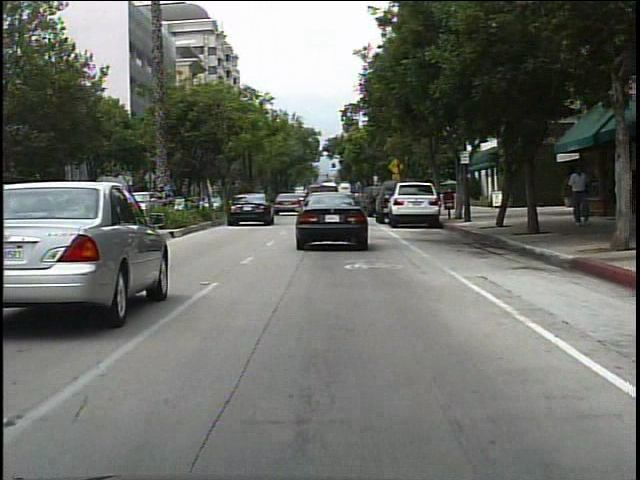person: (566, 162, 594, 230)
